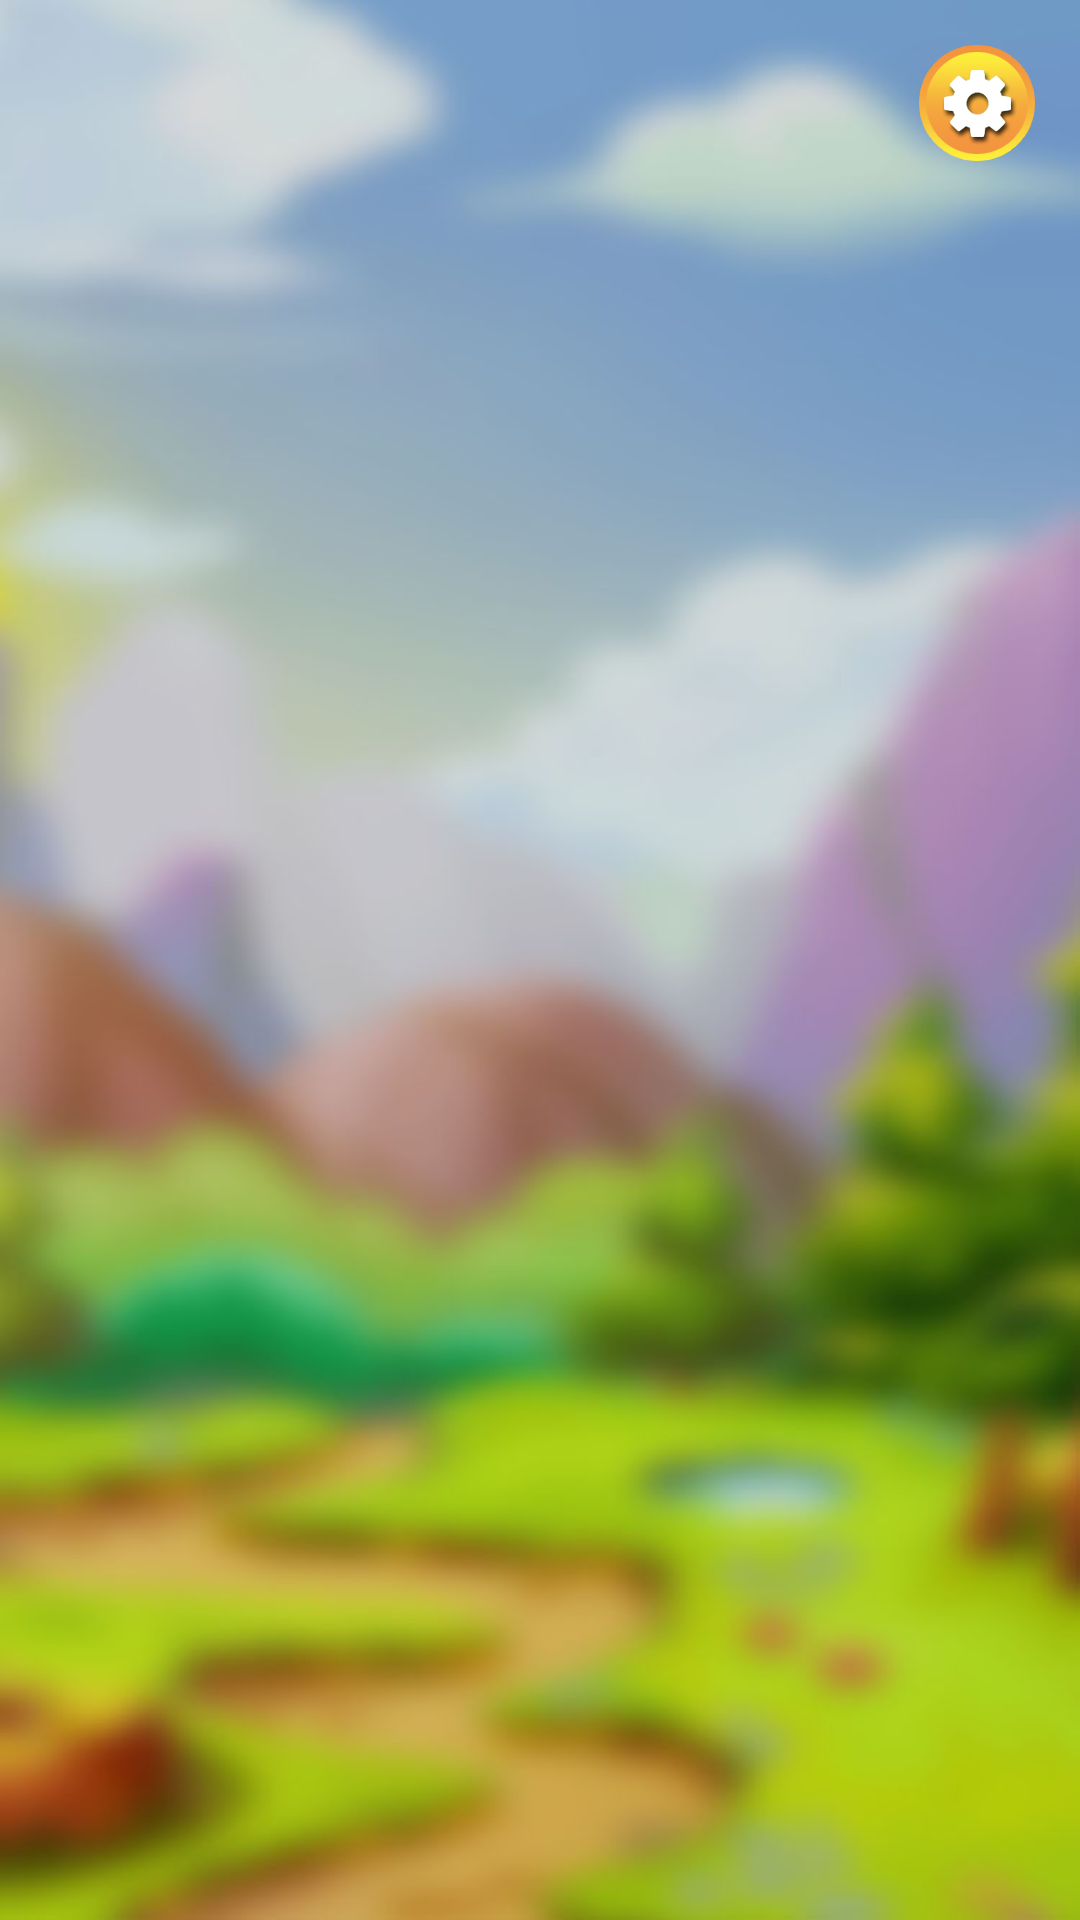

Point at icon controls on the screen. Image size 1080 x 1920, points as (x,y).
settings: (977,103)
